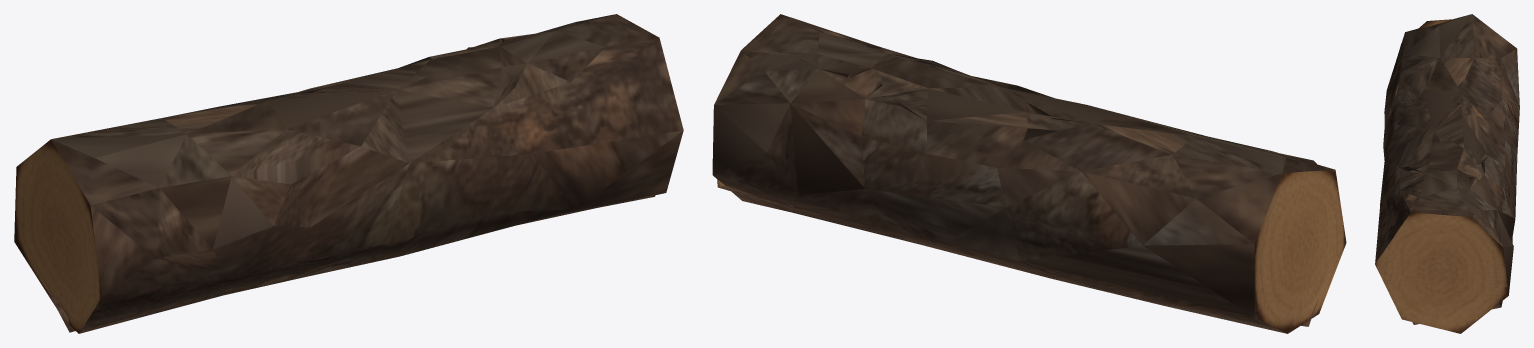
Rendered from firewood-log-lod2.glb.
3 views of the same model, side by side, from view 1: azimuth 30°, elevation 25°; view 2: azimuth 150°, elevation 25°; view 3: azimuth 270°, elevation 25° (orthographic). The views are drawn at different scales.
Parts seen in each view (by area): view 1: firewood-log.002; view 2: firewood-log.002; view 3: firewood-log.002.
Boxes of the visible parts, <box> form: firewood-log.002: <box>14,14,683,333</box>; firewood-log.002: <box>712,14,1346,333</box>; firewood-log.002: <box>1375,14,1519,333</box>.
Bounding box in the file's own units: 1.19 × 0.347 × 0.3656.
Materials: 1 (1 with a texture image).
